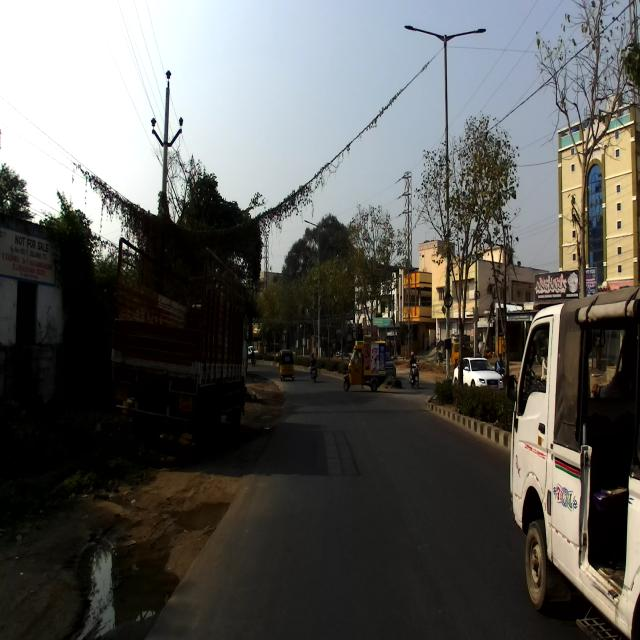car ahead at: (507, 297, 640, 640)
truck ahead at: (111, 236, 250, 449)
